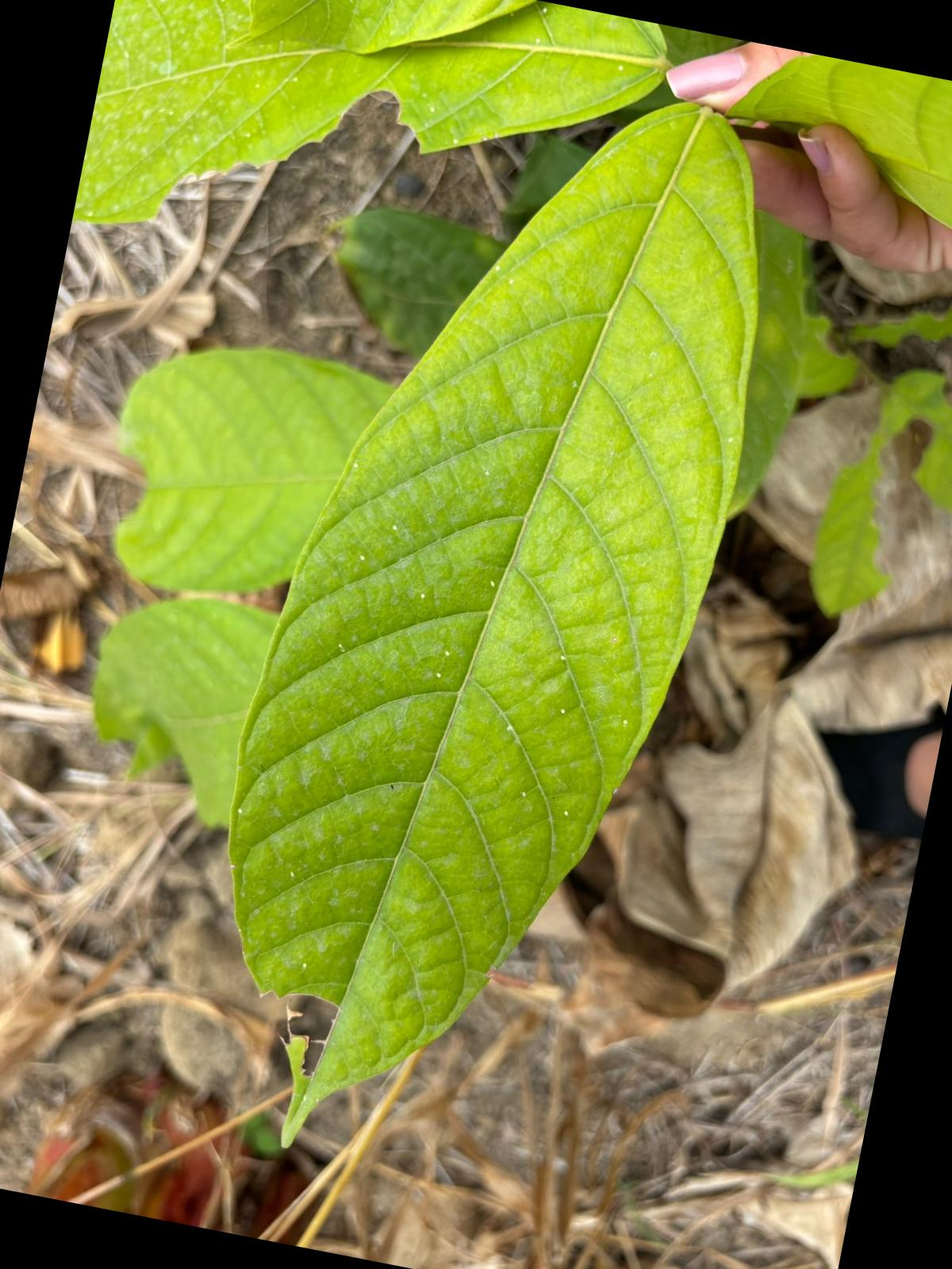Nitrogeno: (228, 103, 755, 1139)
